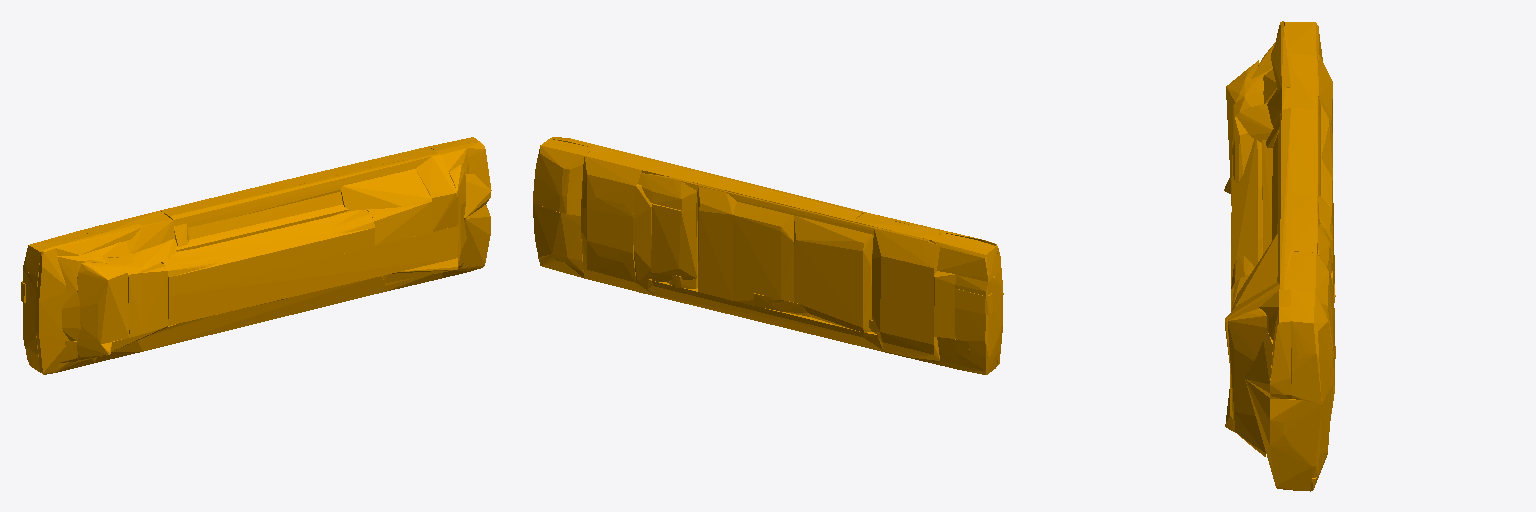
The robot description file, URDF, robot "remote-grey":
<?xml version="1.0" ?>
<robot name="remote-grey">
  <link name="baseLink">
    <contact>
      <lateral_friction value="1.0"/>
      <inertia_scaling value="3.0"/>
    </contact>
    <inertial>
      <origin rpy="0 0 0" xyz="0.000 0.000 0.000"/>
       <mass value=".1"/>
       <inertia ixx="1" ixy="0.0" ixz="0.0" iyy="1" iyz="0.0" izz="1"/>
    </inertial>
    <visual>
      <origin rpy="0 0 0" xyz="0 0 0"/>
      <geometry>
        <mesh filename="remote/remote-grey.obj" scale="1.0 1.0 1.0"/>
      </geometry>
    </visual>
    <collision>
      <origin rpy="0 0 0" xyz="0 0 0"/>
      <geometry>
        <mesh filename="../collision/remote/remote-grey.obj" scale="1.0 1.0 1.0"/>
      </geometry>
    </collision>
  </link>
</robot>
        

--- Render facts (derived) ---
3 views of the same robot in one strip: view 1: azimuth 30°, elevation 25°; view 2: azimuth 150°, elevation 25°; view 3: azimuth 270°, elevation 25° (orthographic).
Robot: remote-grey — 1 links, 0 joints (none); root link baseLink; default pose: all joints at 0.
Links seen in each view (by area): view 1: baseLink; view 2: baseLink; view 3: baseLink.
Boxes of the visible links, x1=… form: baseLink: x1=21, y1=137, x2=491, y2=374; baseLink: x1=533, y1=137, x2=1003, y2=374; baseLink: x1=1224, y1=21, x2=1335, y2=491.
Size in the robot's own frame: 0.1891 by 0.0288 by 0.0499 metres.
1 mesh visuals loaded from 1 distinct referenced files (1 OBJ).